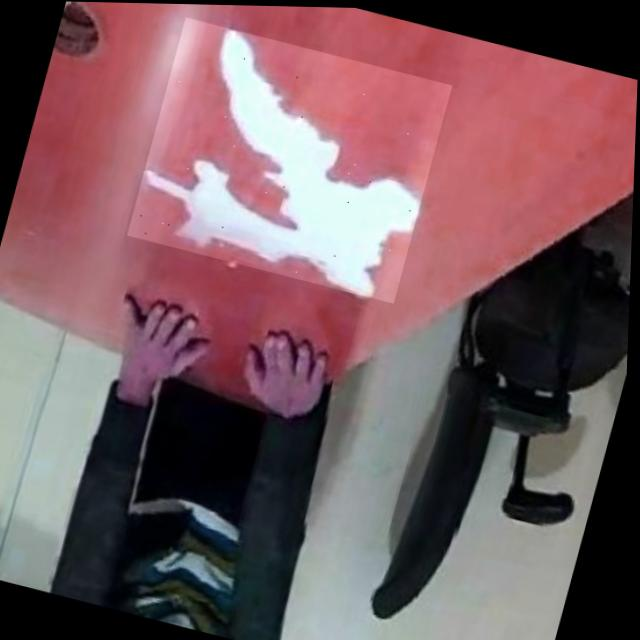spillage: (145, 29, 421, 294)
